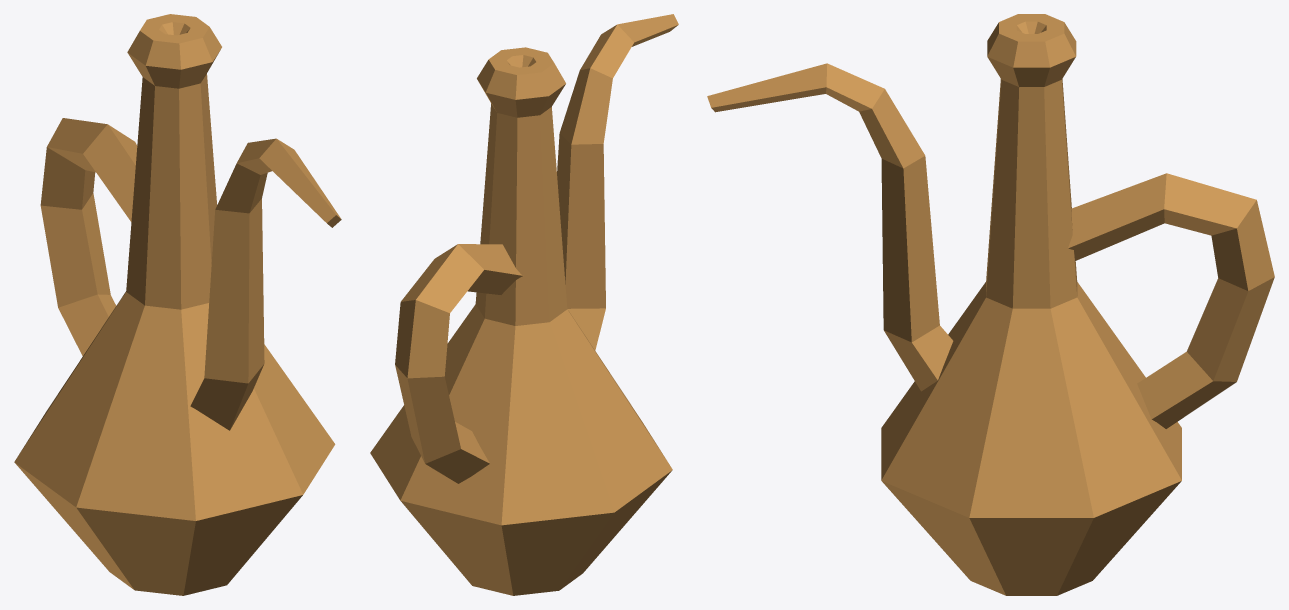
Rendered from SM_Prop_Gold_Teapot_02.fbx.
3 renders of one model, left to right at view 1: azimuth 30°, elevation 25°; view 2: azimuth 150°, elevation 25°; view 3: azimuth 270°, elevation 25°, orthographic. The views are drawn at different scales.
Visible parts, largest first — view 1: SM_Prop_Gold_Teapot_02; view 2: SM_Prop_Gold_Teapot_02; view 3: SM_Prop_Gold_Teapot_02.
Boxes of the visible parts, x1,y1,x2,y2 form: SM_Prop_Gold_Teapot_02: (14,14,341,595); SM_Prop_Gold_Teapot_02: (370,14,678,595); SM_Prop_Gold_Teapot_02: (707,14,1274,595).
Bounding box in the file's own units: 27.83 × 55.35 × 52.52.
